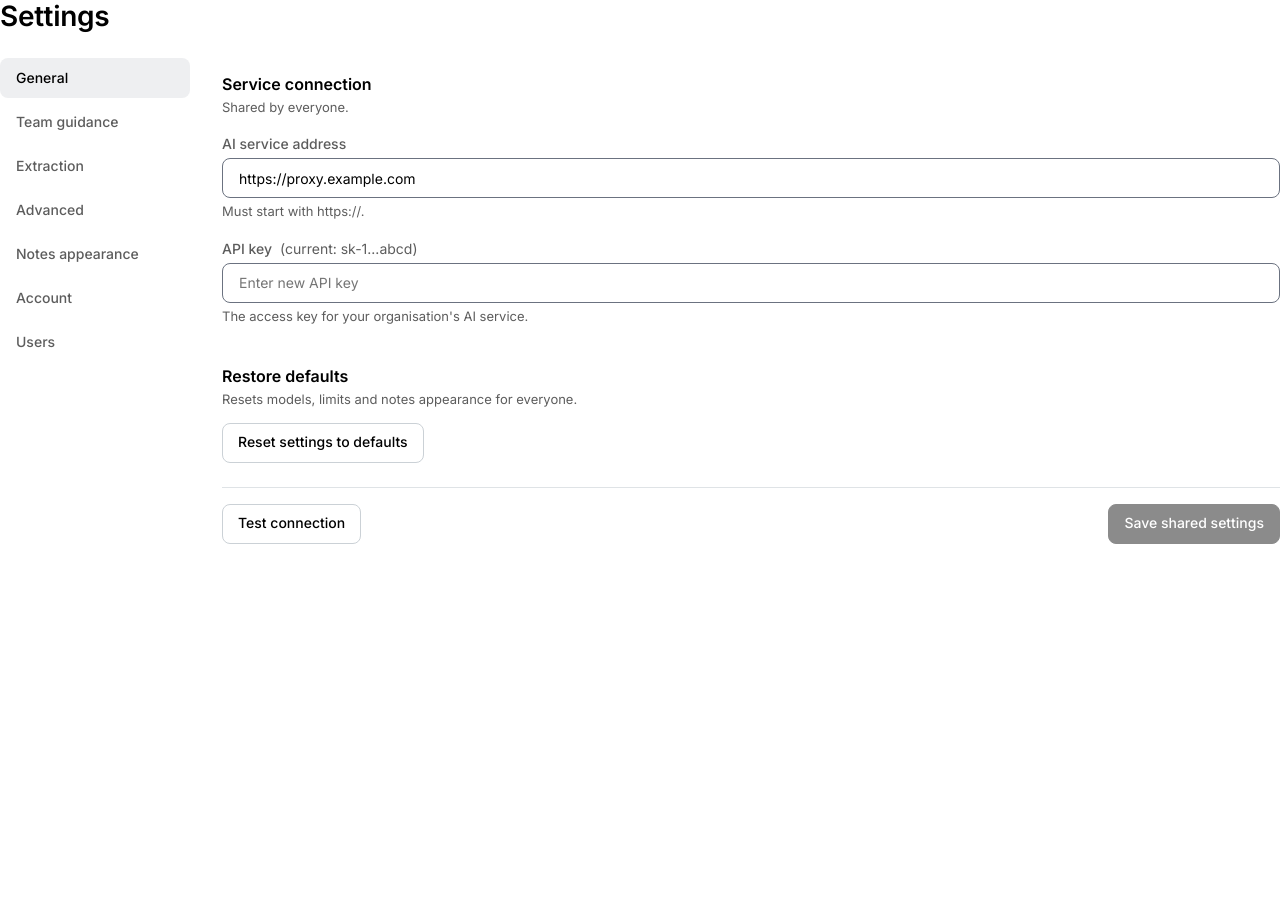
Test: SettingsPage › reset requires confirmation, cancels safely, and reloads defaults
The image size is (1280, 900).
Expected: the field showing "https://proxy.example.com" is shown, [222,158,1279,198]
Click the button "Reset settings to defaults".
click(323, 443)  # box [222,423,424,463]
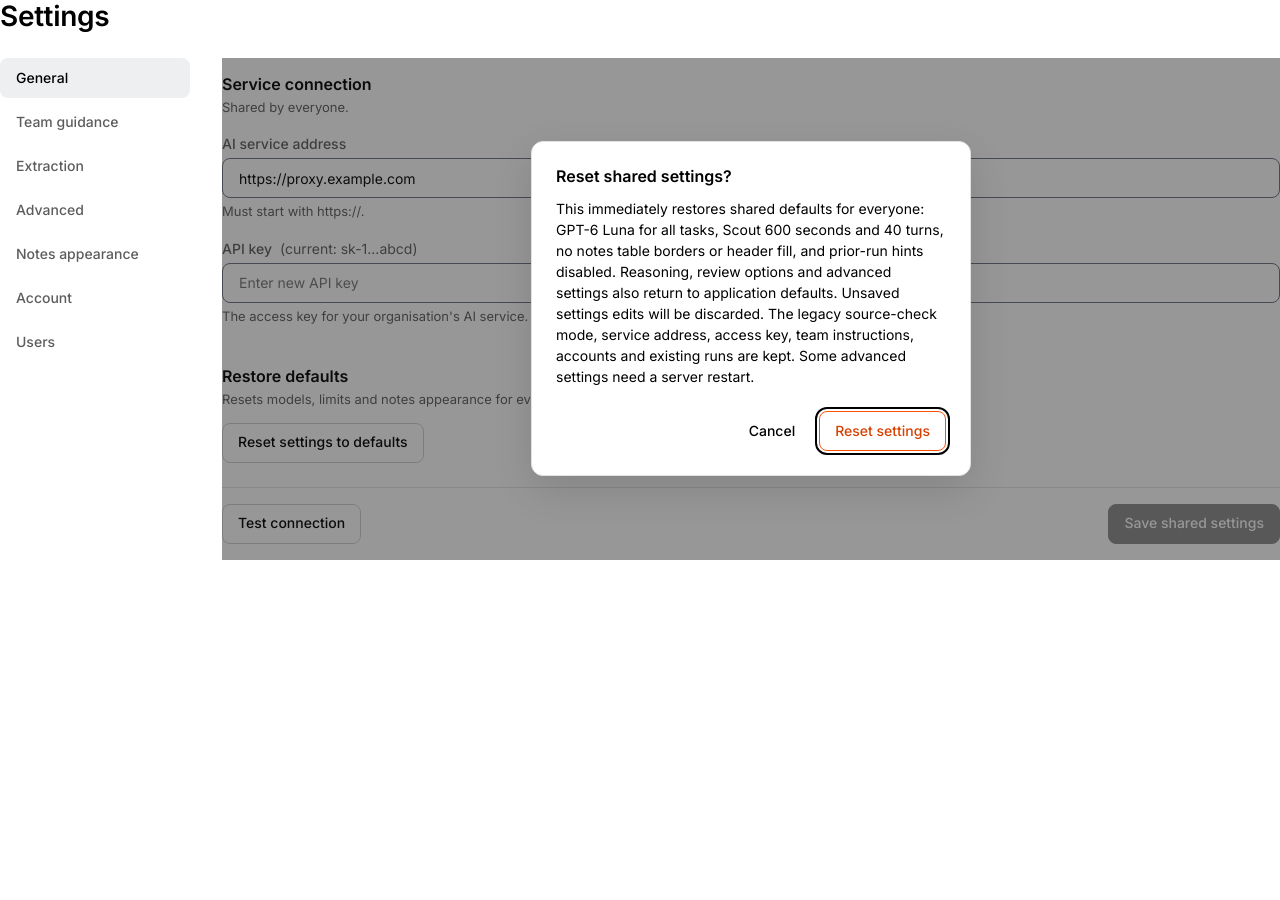
Expected: the dialog "Reset shared settings?" shows "GPT-6 Luna", [556,200,944,386]
Expected: the dialog "Reset shared settings?" shows "600 seconds and 40 turns", [556,200,944,386]
Expected: the dialog "Reset shared settings?" shows "for everyone", [556,200,944,386]
Click the button "Cancel".
click(772, 432)  # box [733,412,811,452]
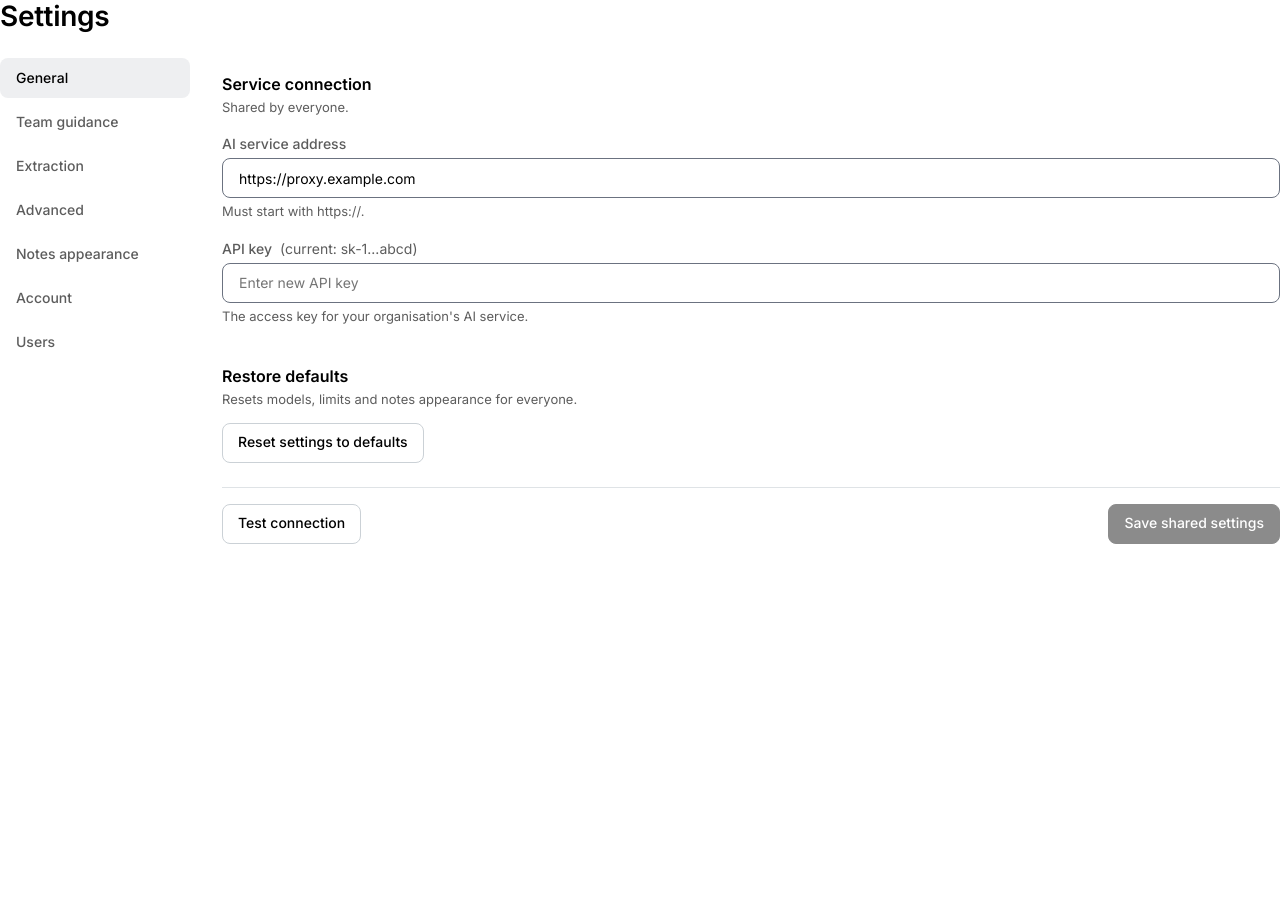
Expected: the dialog is gone
Click the button "Reset settings to defaults".
click(323, 443)  # box [222,423,424,463]
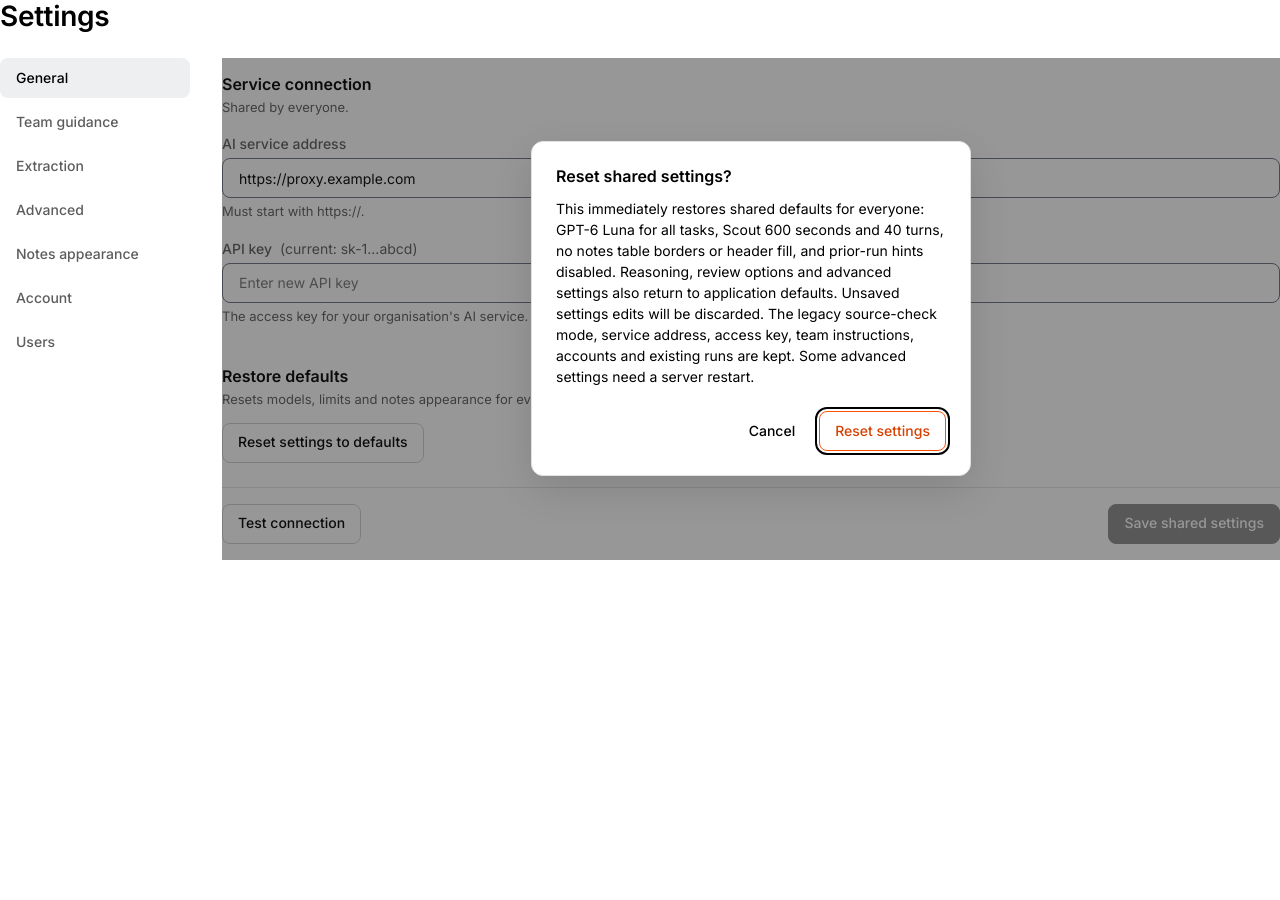
Click the button "Reset settings".
click(883, 432)  # box [819,412,946,452]
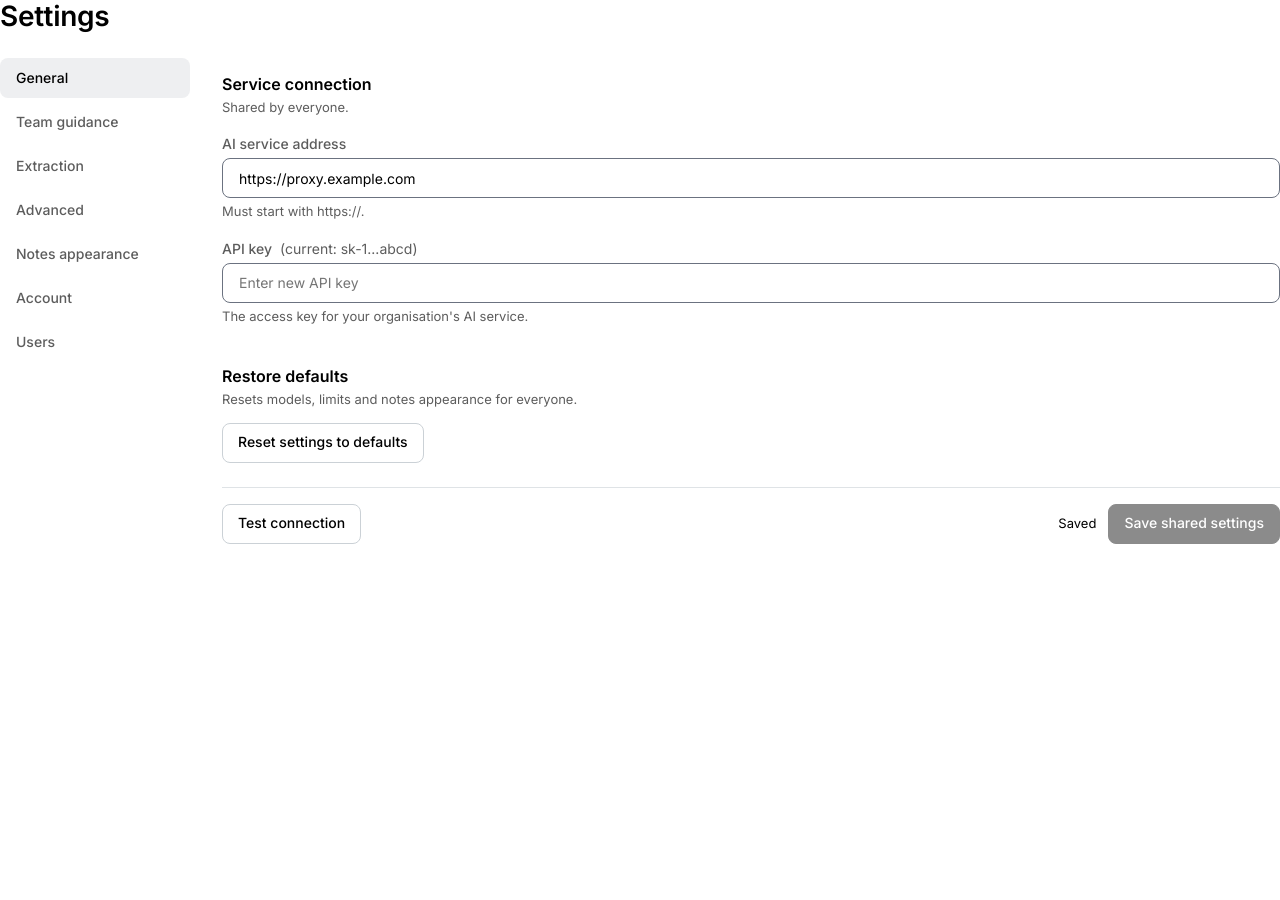
Expected: the dialog is gone
Click the tab "Extraction".
click(95, 166)  # box [0,146,190,186]
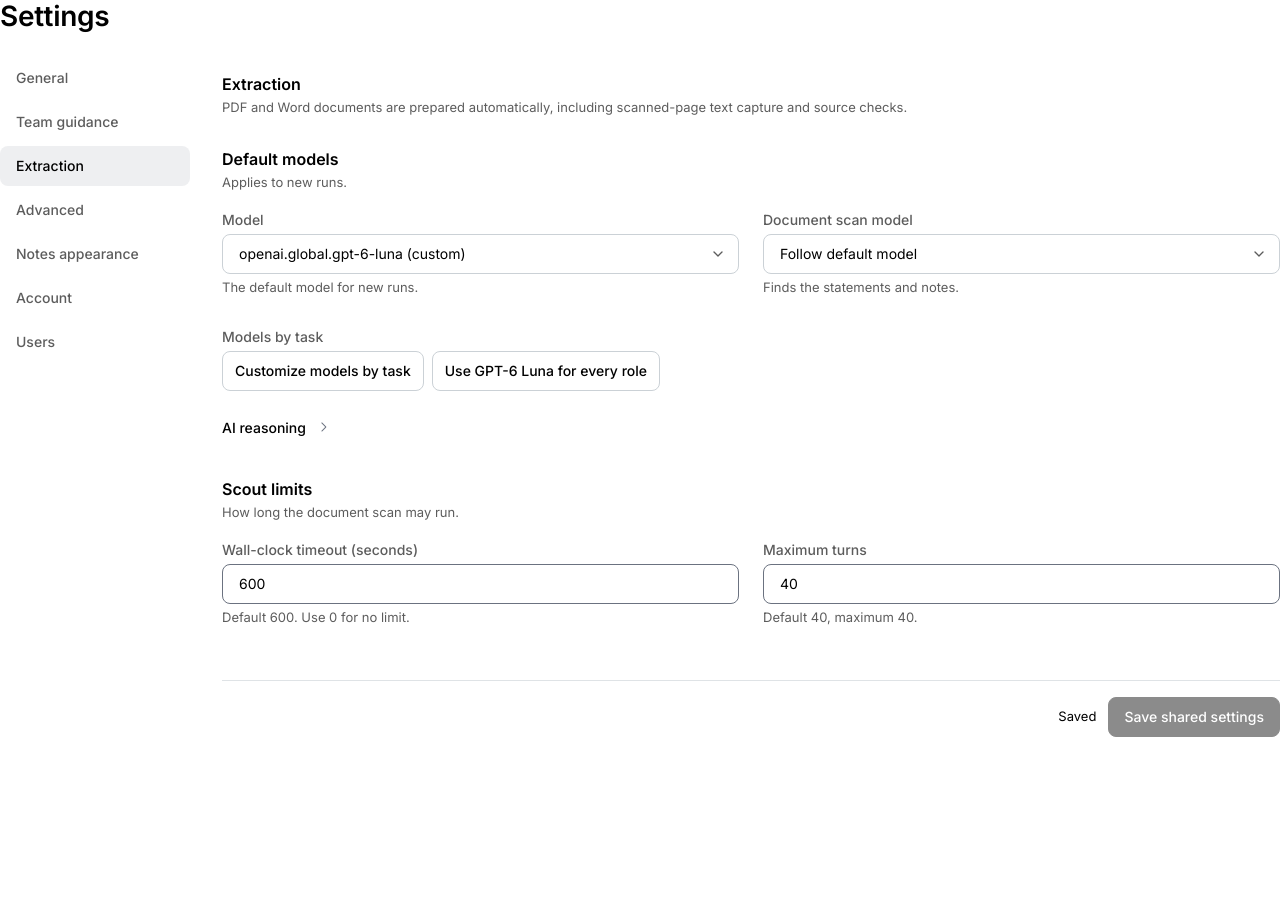
Expected: the dropdown labelled "Model" shows "openai.global.gpt-6-luna (custom)", [222,234,739,274]
Expected: the number field labelled "Maximum turns" holds "40", [763,564,1279,604]
